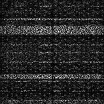lte: (1, 24, 104, 34), (1, 73, 104, 79), (1, 17, 104, 21)
